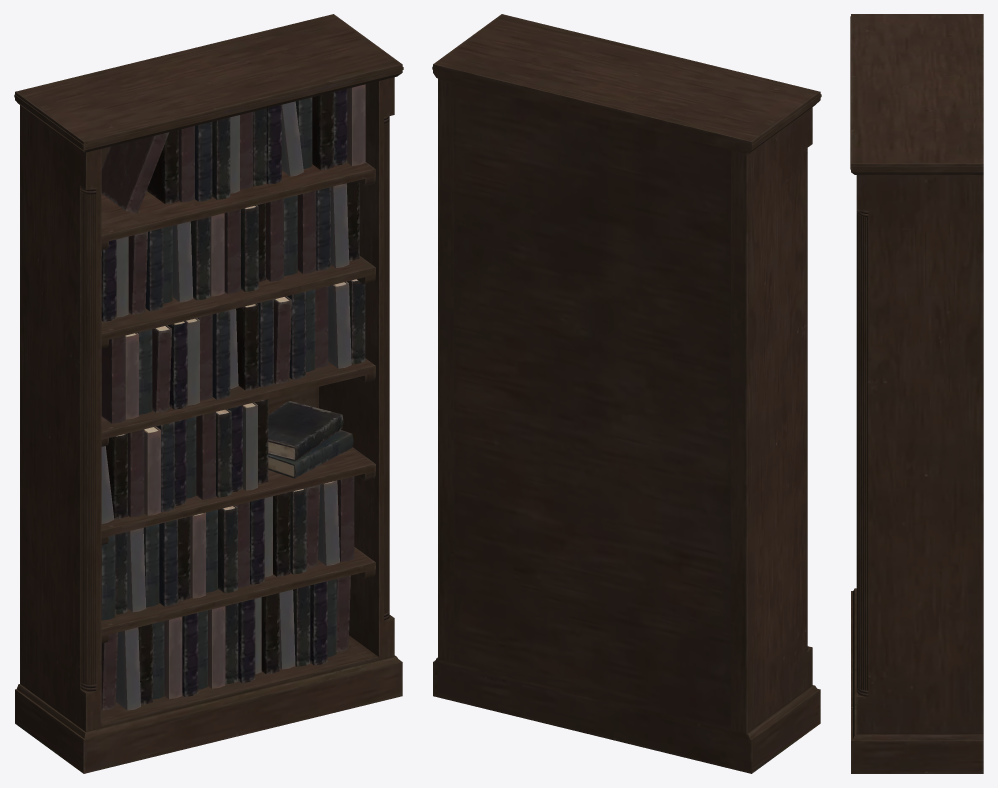
Rendered from bookcase.glb.
3 views of the same model, side by side, from view 1: azimuth 30°, elevation 25°; view 2: azimuth 150°, elevation 25°; view 3: azimuth 270°, elevation 25° (orthographic). The views are drawn at different scales.
Parts seen in each view (by area): view 1: Victorian Bookcase Tall_Victorian Bookcase Tall_0; view 2: Victorian Bookcase Tall_Victorian Bookcase Tall_0; view 3: Victorian Bookcase Tall_Victorian Bookcase Tall_0.
Part boxes in pixels (box(x1,y1,x2,y2)): Victorian Bookcase Tall_Victorian Bookcase Tall_0: box(14, 14, 403, 773); Victorian Bookcase Tall_Victorian Bookcase Tall_0: box(432, 14, 821, 773); Victorian Bookcase Tall_Victorian Bookcase Tall_0: box(850, 14, 983, 773).
Bounding box in the file's own units: 0.954 × 1.8 × 0.3571.
Materials: 1 (1 with a texture image).
